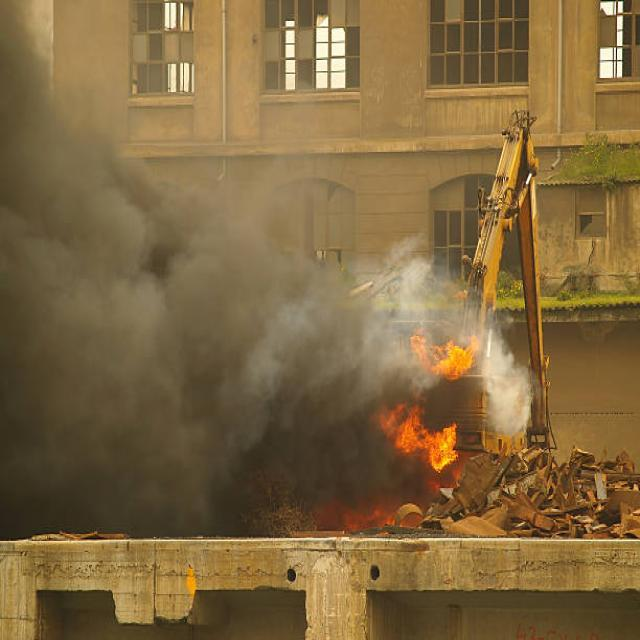Fire: (3, 15, 187, 526), (342, 300, 477, 524)
